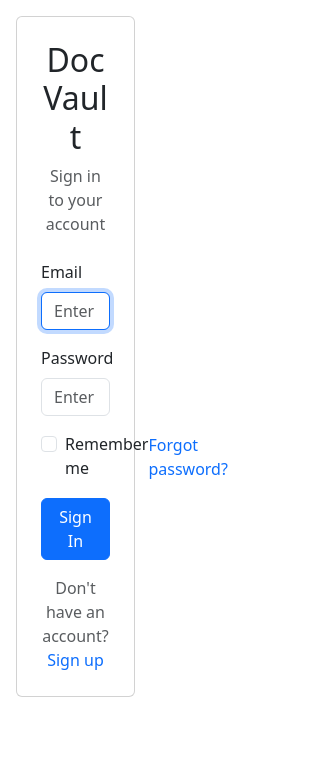
LoginPage Integration Tests › Failed Login Flow › should display error message on login failure
Step 1. Type "test@example.com" into the field labelled "Email" → (75,311), box [41,292,110,330]
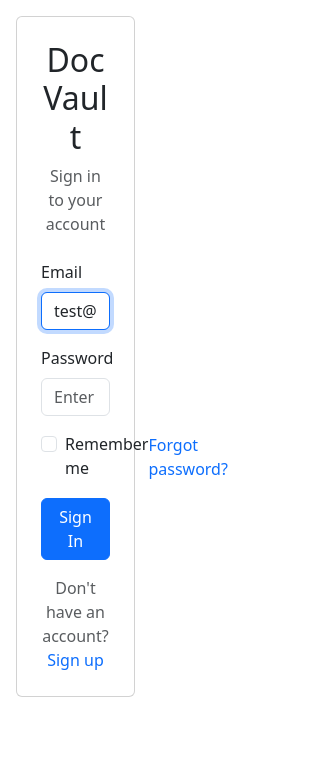
Step 2. Type "password123" into the password field labelled "Password" → (75,397), box [41,378,110,416]
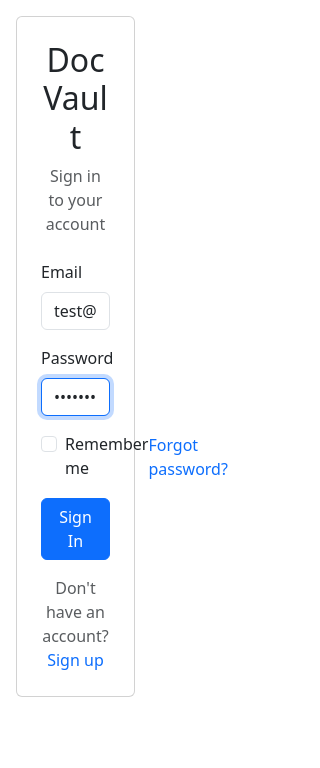
Step 3. Click the button "Sign In" → (75,529), box [41,498,110,560]
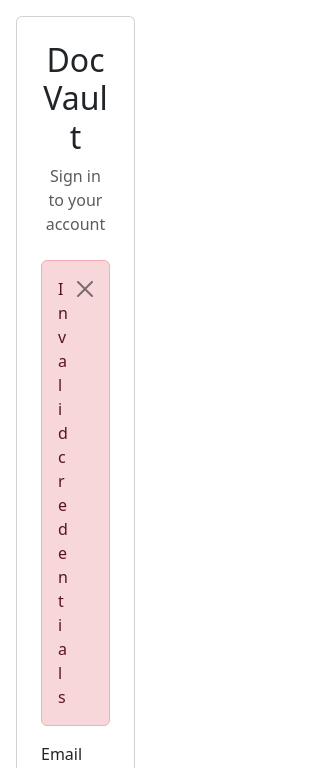
Expected: the text "Invalid credentials" is shown, [41,260,110,726]
